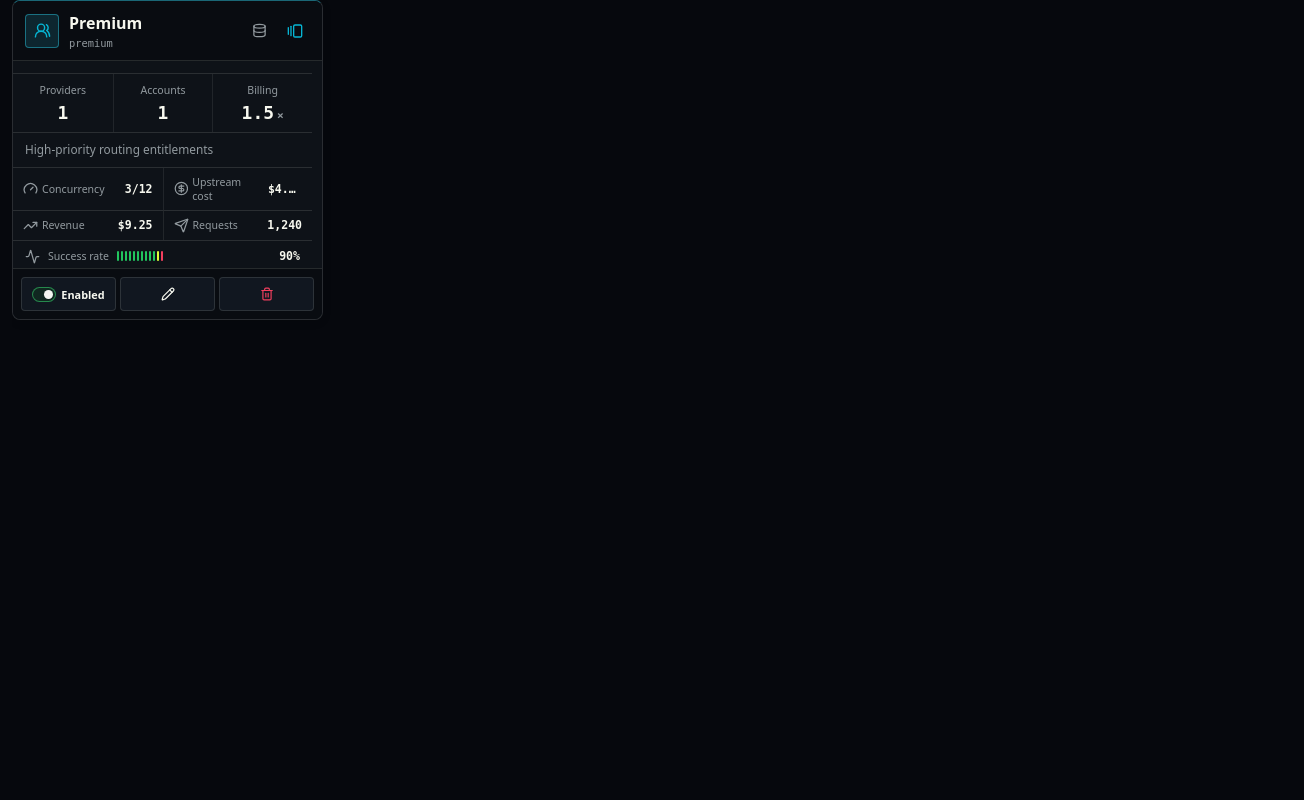
CredentialGroupsWorkspace › narrows the expanded account panel to the providers picked on the back
Click the button "Premium premium". click: (152, 30)
box: x1=69 y1=12 x2=234 y2=49
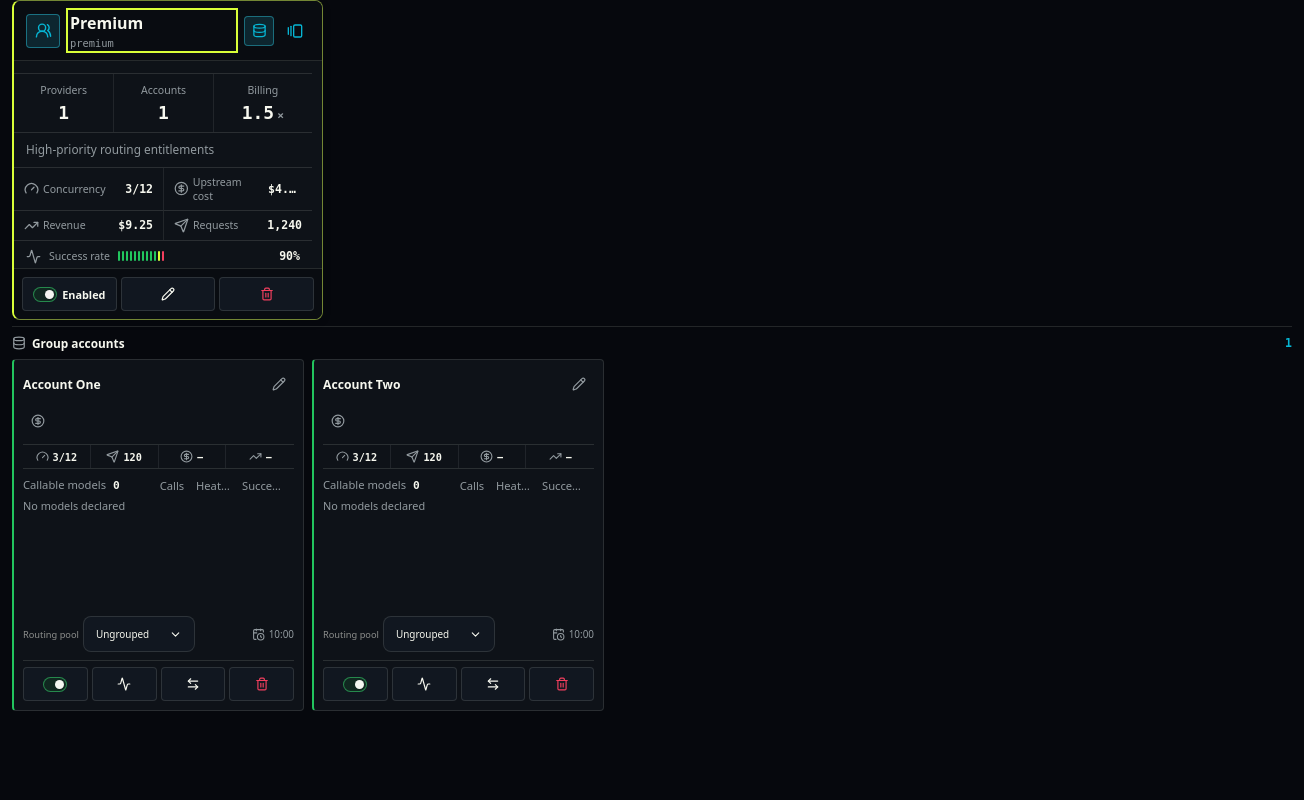
Expected: the text "Account One" is shown, x1=23 y1=376 x2=101 y2=392
Expected: the text "Account Two" is shown, x1=323 y1=376 x2=400 y2=392
Click the button named "Flip Premium for details". click: (295, 30)
box: x1=280 y1=16 x2=310 y2=46
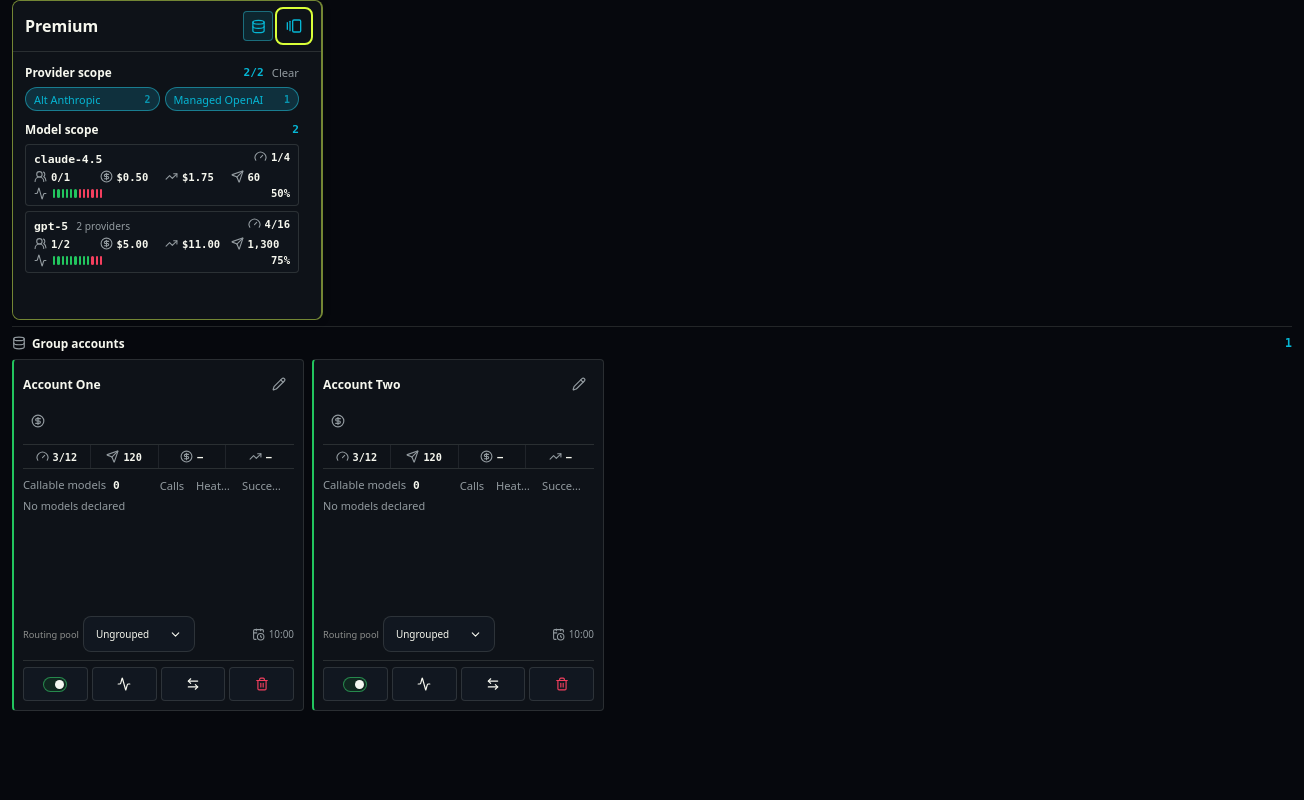
Click the button "Alt Anthropic 2". click: (92, 99)
box: x1=25 y1=87 x2=160 y2=111
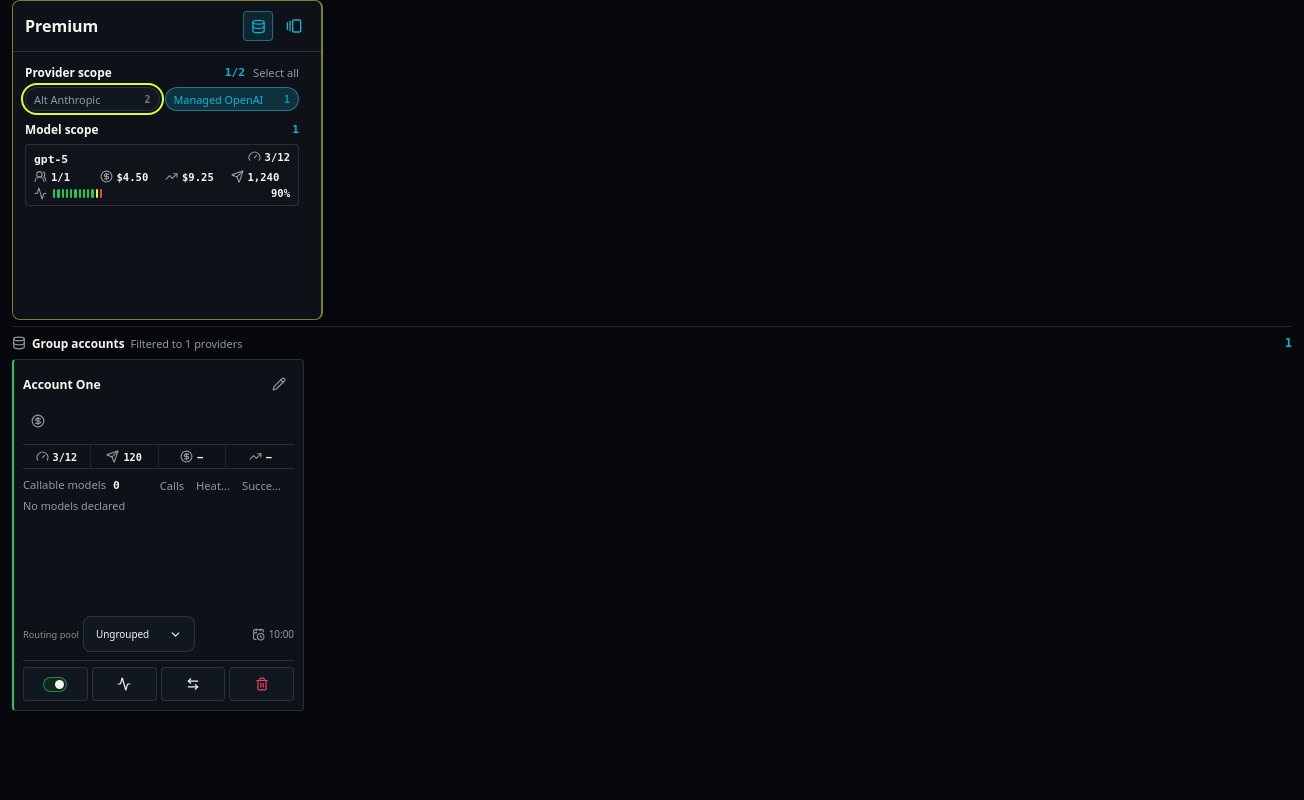
Expected: the text "Account One" is shown, x1=23 y1=376 x2=101 y2=392
Expected: the text with class "nt-entitlement-group-card__accounts-count" reads "1", x1=1285 y1=336 x2=1292 y2=350
Expected: the text "Account Two" is gone
